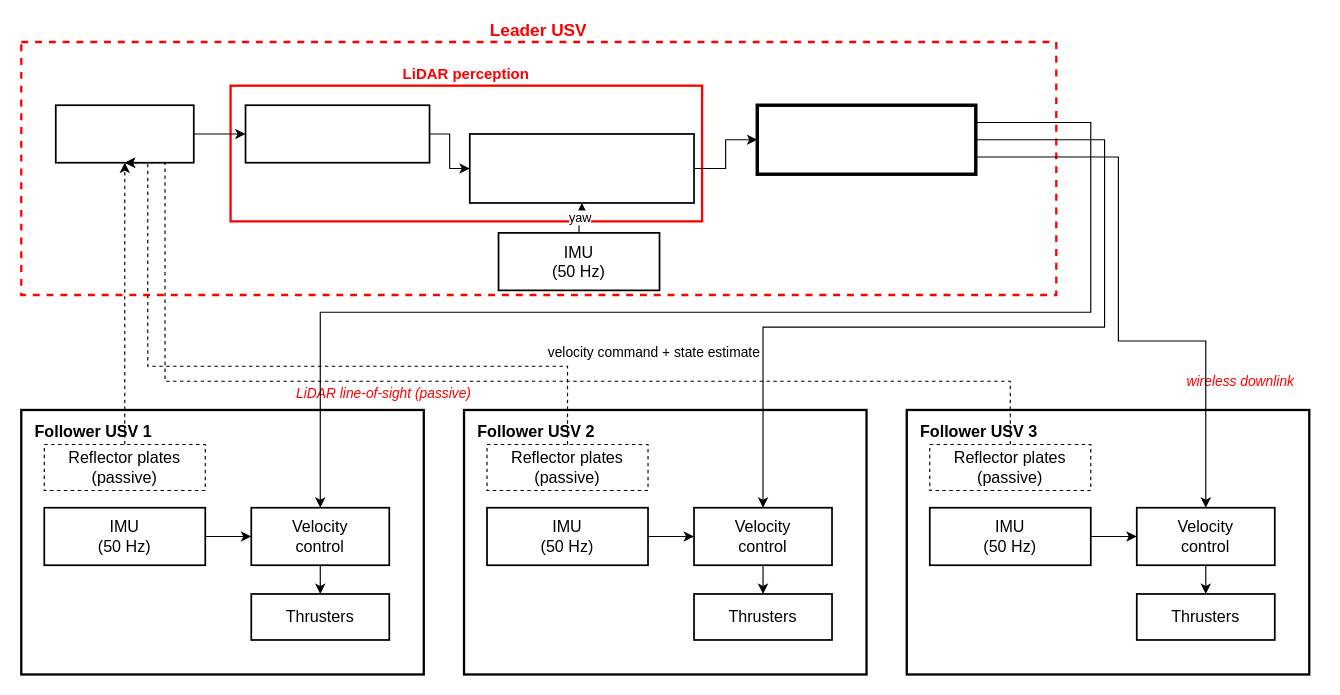
This 1340x695 diagram has some shape labels left out. The shapes that lost their labels are listed below. From the top down, each one's centre as x and y in pixels, then its label:
At point (124, 133): "3D LiDAR (10 Hz)".
At point (337, 133): "Reflector plate detection".
At point (866, 139): "Koopman LP formation control (φ⁷)".
At point (581, 168): "Follower state estimation (position + heading)".
